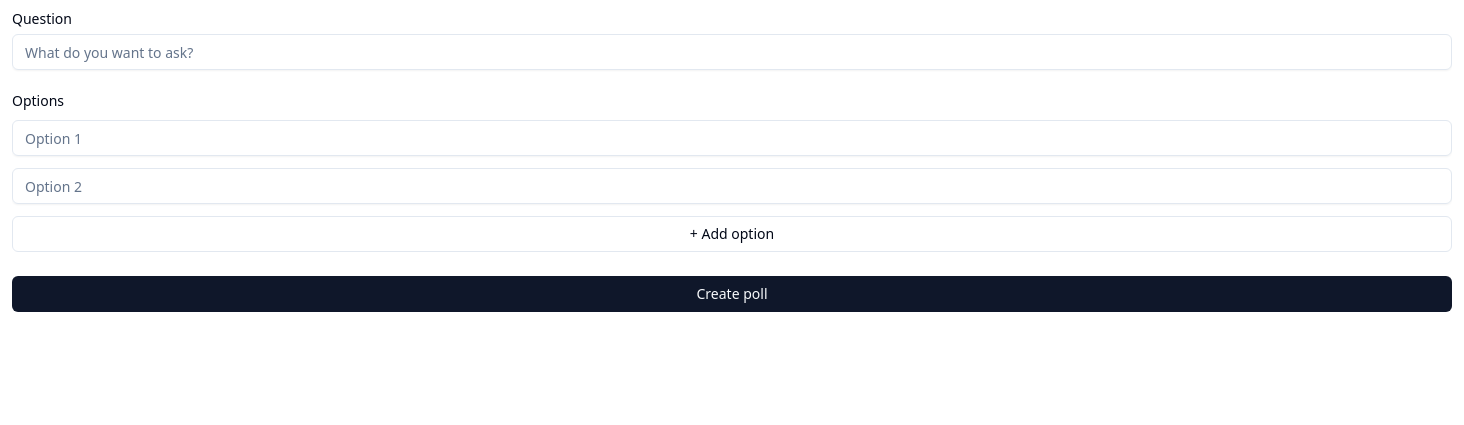
Test case: PollForm › adding and removing options › hides Add option button at 5 options
Click the button "+ Add option".
click(732, 234)  # box top-left (12, 216), bottom-right (1452, 252)
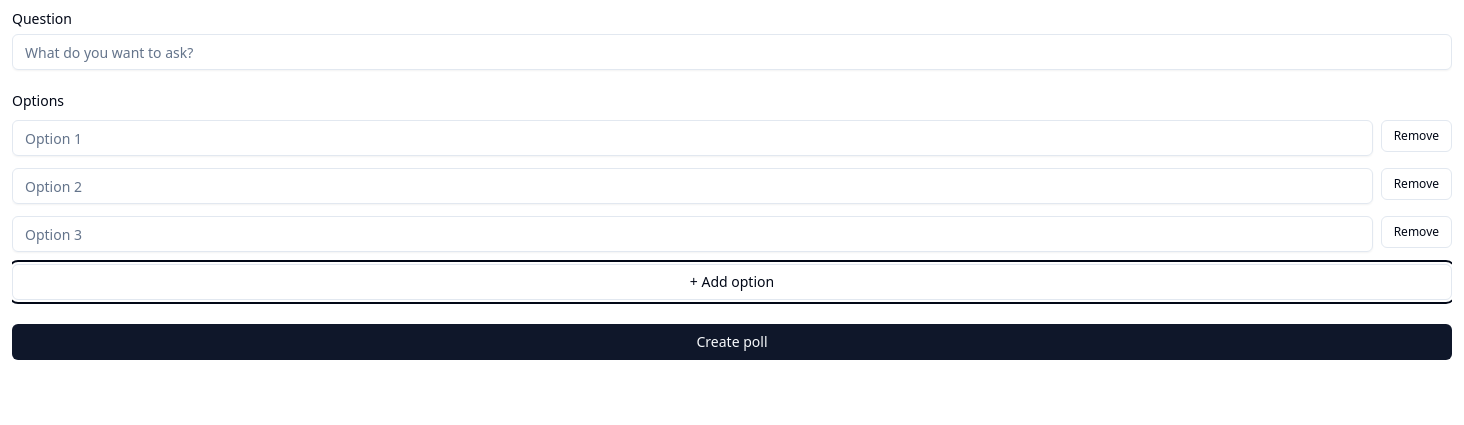
Click the button "+ Add option".
click(732, 282)  # box top-left (12, 264), bottom-right (1452, 300)
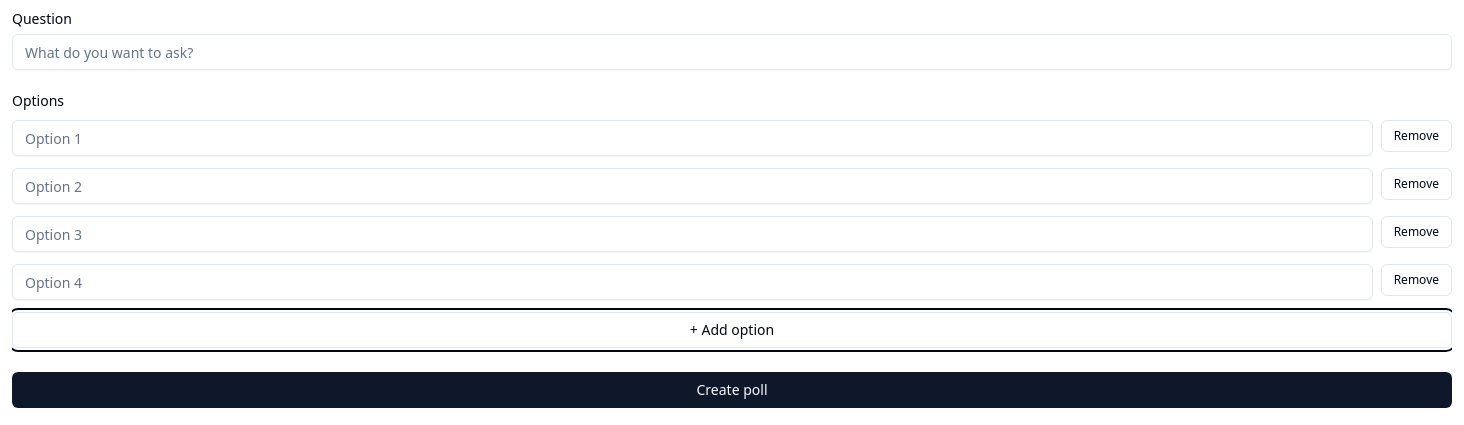
Click the button "+ Add option".
click(732, 330)  # box top-left (12, 312), bottom-right (1452, 348)
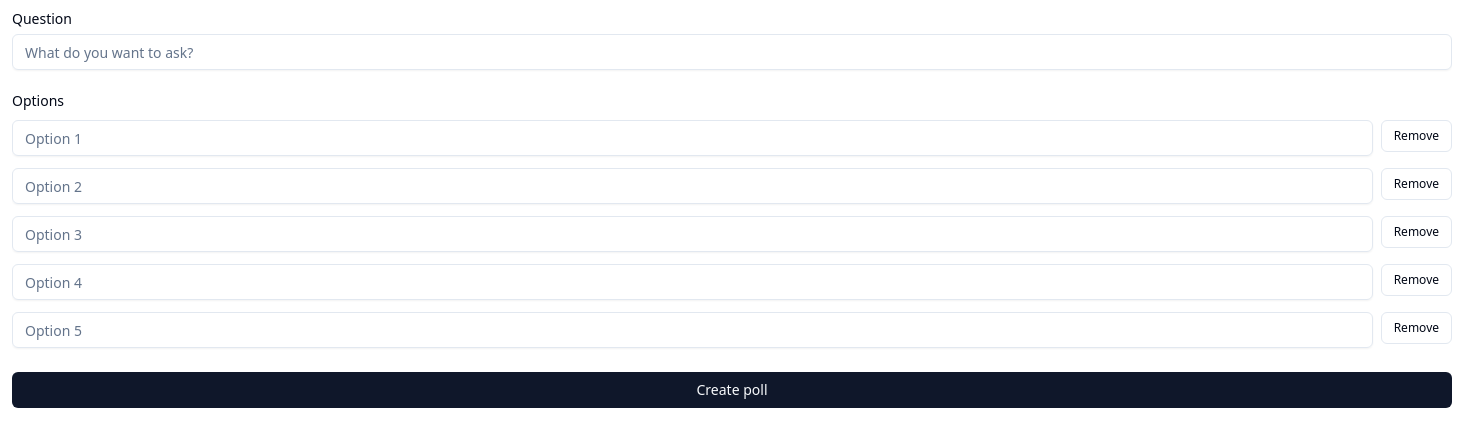
Expected: the button "Add option" is gone
